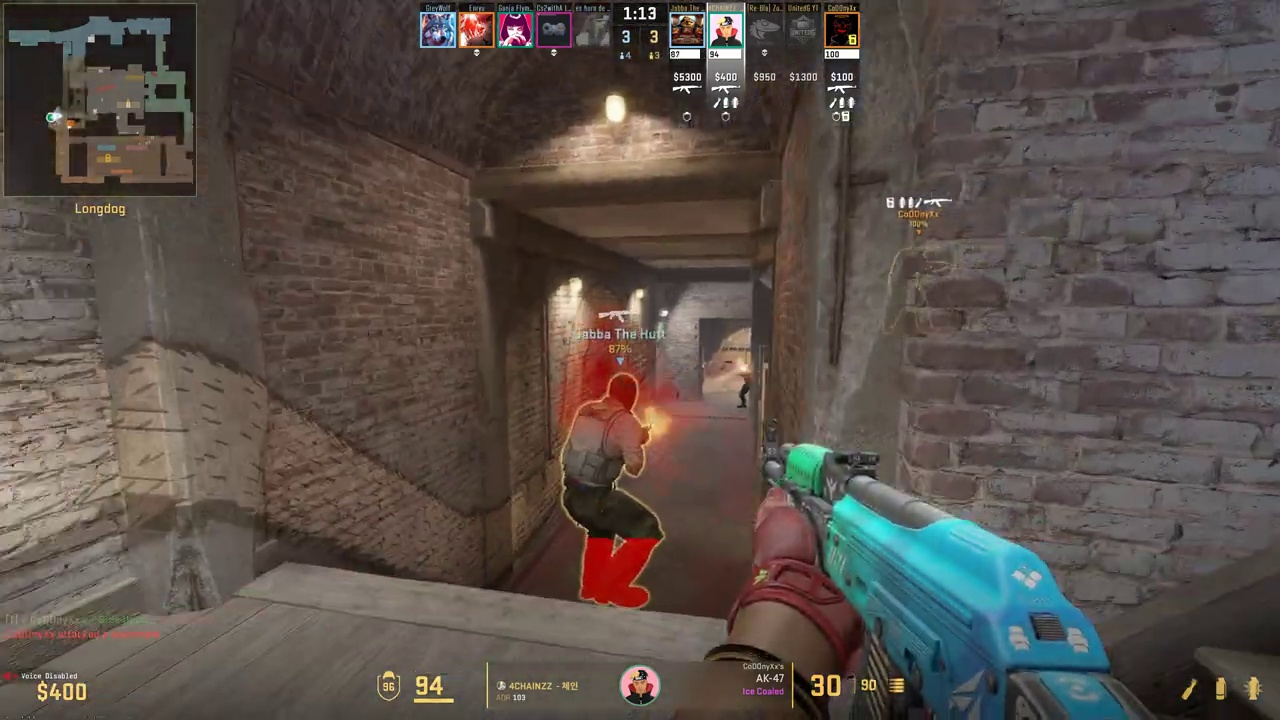CT: (738, 367, 752, 408)
Terrorist: (560, 373, 662, 606)
